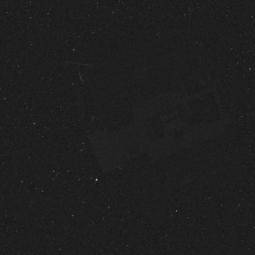proba_2: (63, 37, 231, 181)
